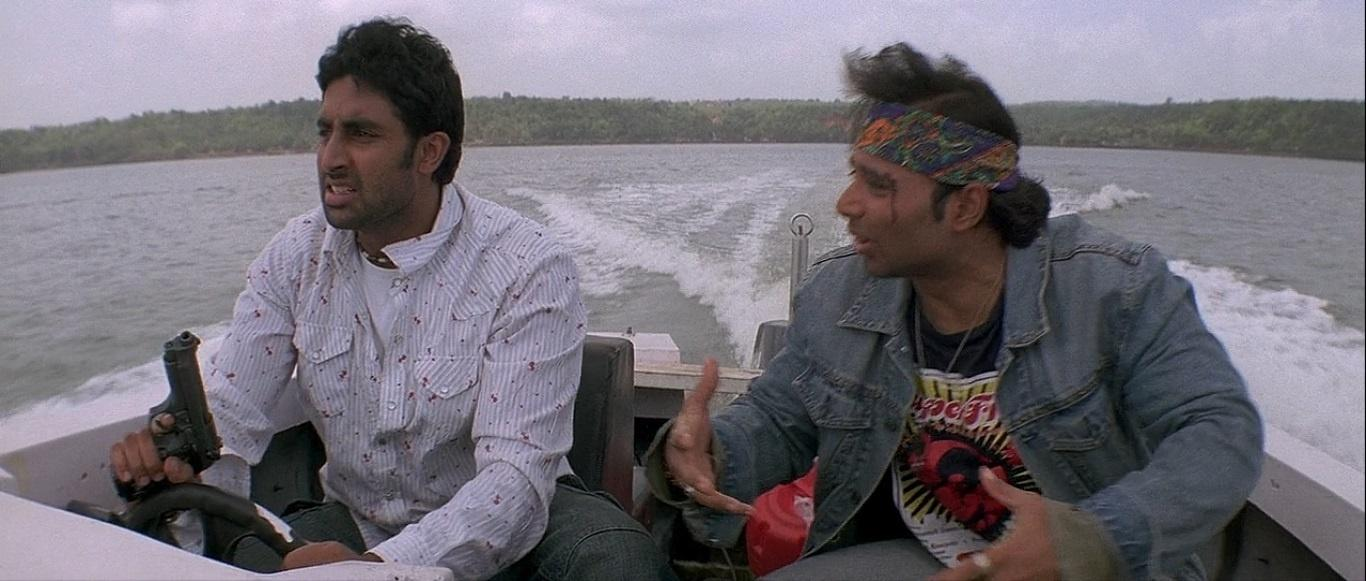gun: (99, 330, 225, 491)
